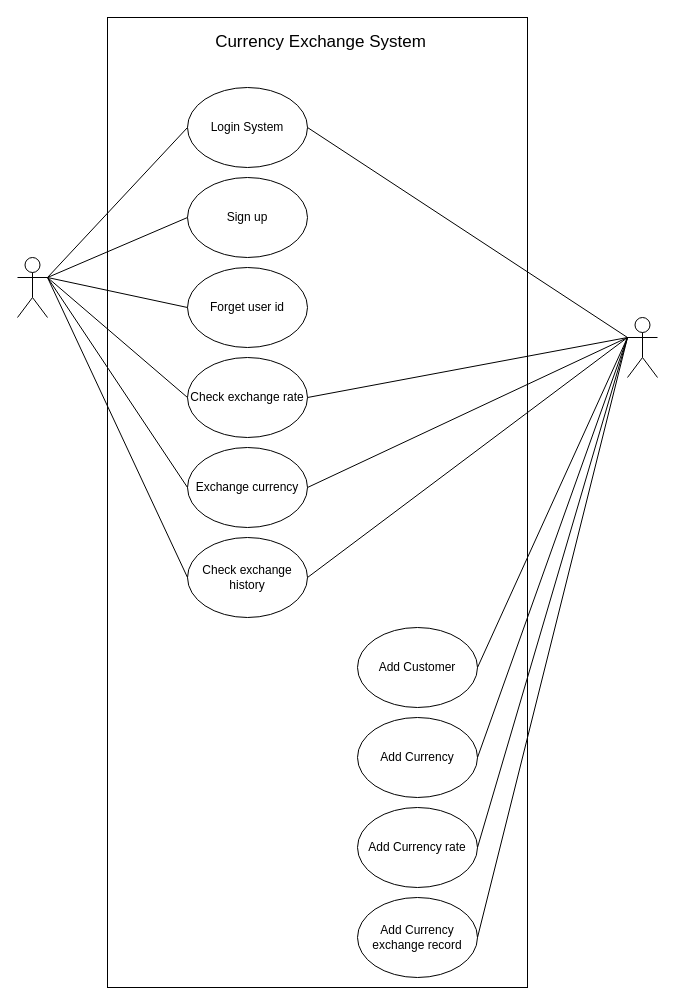
Image size: 677x1005. Some labels were removed from this diagram. The shapes that lost their labels are listed below. From the top down, each one's centre as x and y in pixels, then its label:
At [32,287]: "User".
At [642,347]: "Admin".
